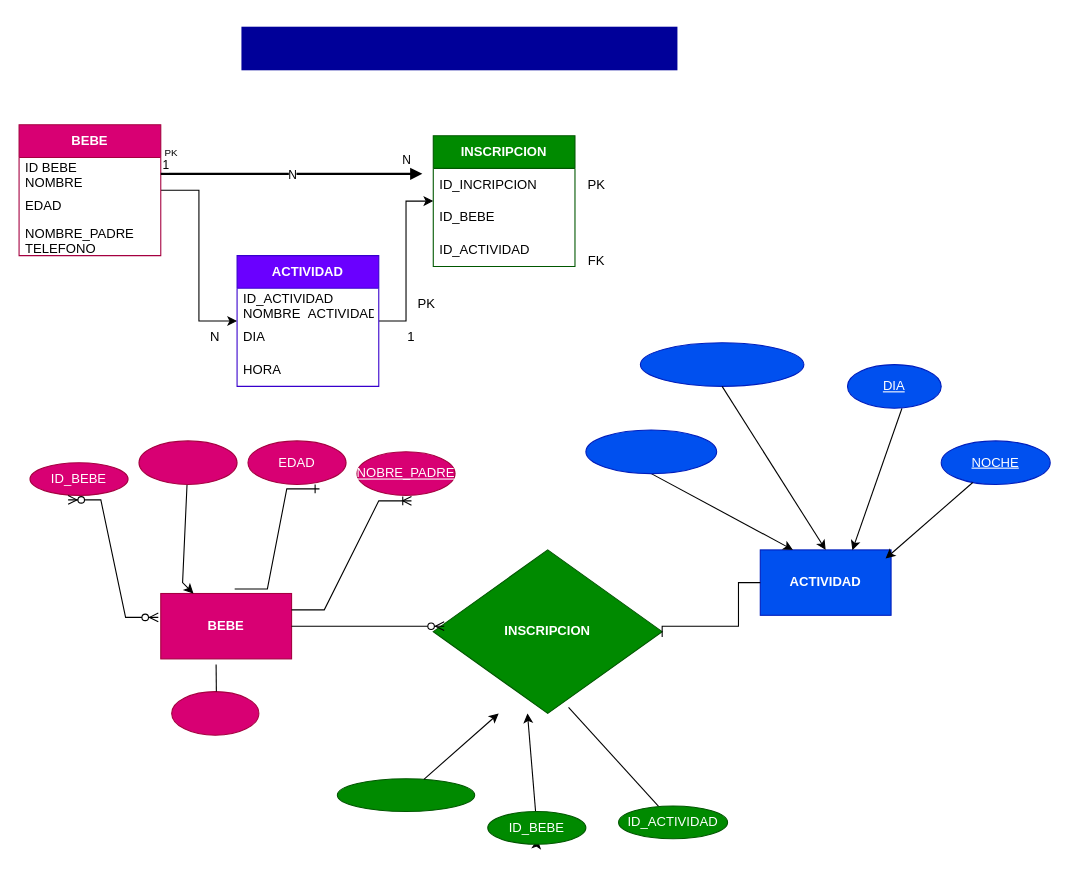
This 1069x872 diagram has some shape labels left out. The centre of each missing label's shape, as x and y in pixels:
AD_ACTIVIDAD: the point at 651,451
ARIS'S NURSERY: the point at 459,48
ID_INSCRPCION: the point at 405,795
NOMBRE: the point at 187,462
NOMBRE_ACTIVIDAD: the point at 721,364
TELEFONO: the point at 215,713
